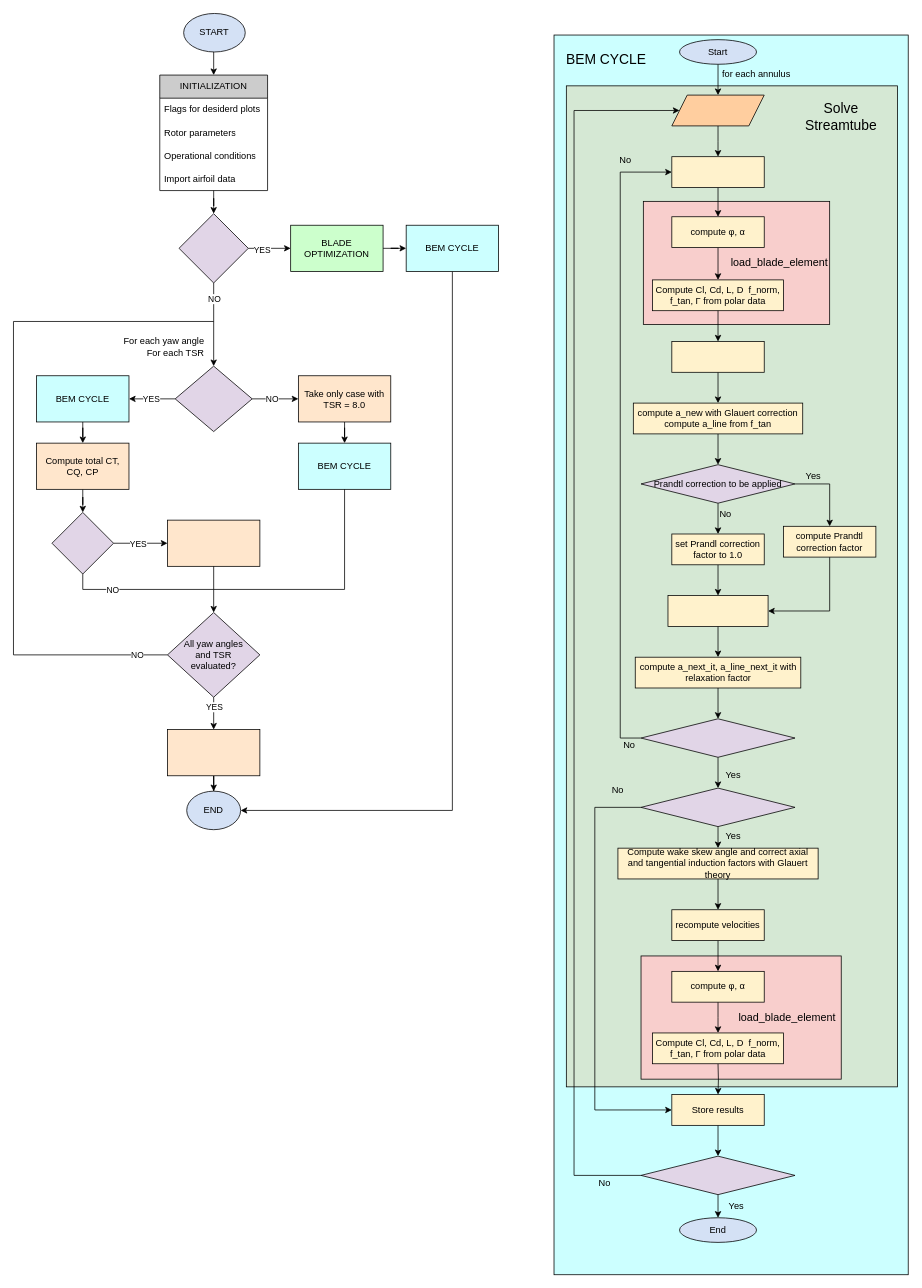
The diagram is 922 pixels wide and 1288 high, and some of its shapes have lost their labels. Here are the shapes that lost their labels. From the top down, the centre of each, then its label:
At [717,110]: "initialize a, a'".
At [717,171]: "Compute velocities".
At [213,248]: "Optimization?".
At [717,356]: "compute C_T from f_norm".
At [213,398]: "Yaw angle = 0?".
At [82,543]: "TSR = 8?".
At [213,542]: "Compute stagnation pressure".
At [717,610]: "Compute a_corrected, a_line_corrected".
At [213,752]: "PLOTS".
At [717,737]: "converged or max iteration reached".
At [717,807]: "yaw angle is not zero".
At [717,1175]: "All annuli computed".
